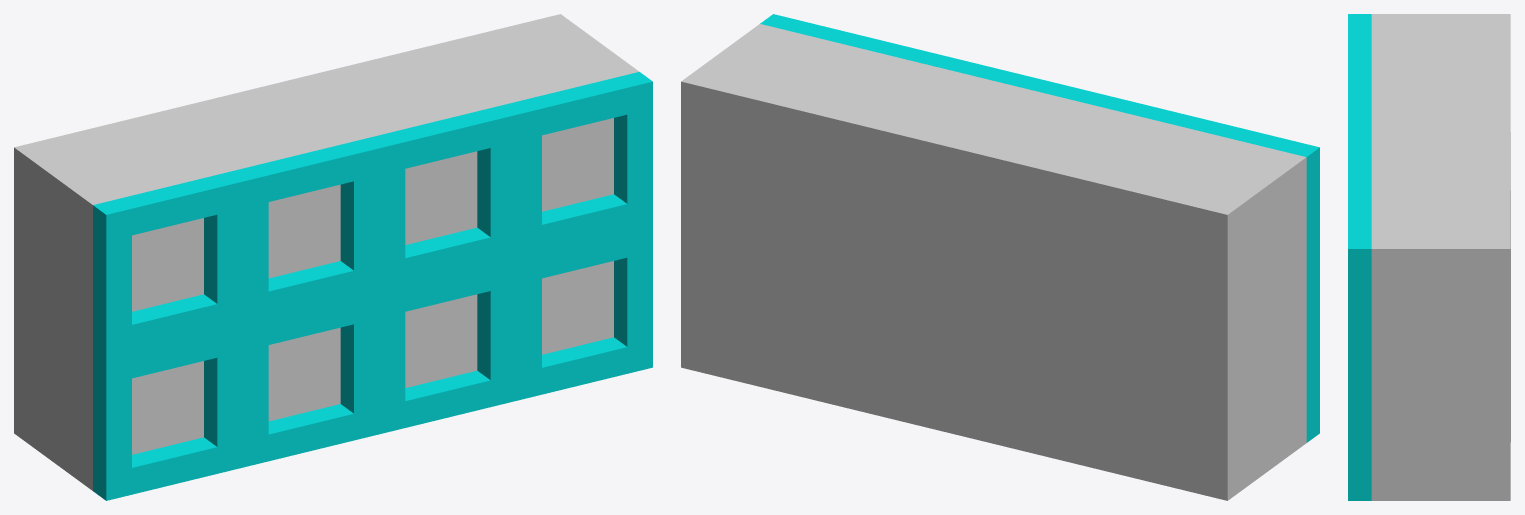
3 views of the same model, side by side, from view 1: azimuth 30°, elevation 25°; view 2: azimuth 150°, elevation 25°; view 3: azimuth 270°, elevation 25° (orthographic). The views are drawn at different scales.
Parts seen in each view (by area): view 1: Element_0@Origin_e, Future.007, Element_0@Origin_a, Element_0@Origin_g, Element_0@Origin_f, Future.005, Element_0@Origin_h, Future.006, Future, Future.004, Future.002, Future.001 (+4 smaller); view 2: Element_0@Origin_e, Element_0@Origin_a, Element_0@Origin_g, Element_0@Origin_f, Element_0@Origin_h, Element_0@Origin_c, Element_0@Origin_b, Element_0@Origin_d, Future.007, Future, Future.005, Future.004 (+1 smaller); view 3: Element_0@Origin_h, Element_0@Origin_d, Element_0@Origin_g, Element_0@Origin_f, Element_0@Origin_e, Future.004, Future.003, Future.006, Future.005, Future.007.
Part boxes in pixels (x1,y1,x2,y2): Element_0@Origin_e: (14,114,229,347); Future.007: (93,172,242,357); Element_0@Origin_a: (14,290,203,490); Element_0@Origin_g: (288,47,502,244); Element_0@Origin_f: (151,80,365,278); Future.005: (366,105,516,290); Element_0@Origin_h: (424,14,639,211); Future.006: (230,138,379,324); Future: (93,324,242,500); Future.004: (503,72,652,257); Future.002: (379,258,516,433); Future.001: (243,291,379,467); Element_0@Origin_e: (1091,124,1306,357); Element_0@Origin_a: (1091,300,1306,500); Element_0@Origin_g: (817,57,1032,290); Element_0@Origin_f: (954,90,1169,324); Element_0@Origin_h: (681,24,896,257); Element_0@Origin_c: (817,258,954,433); Element_0@Origin_b: (954,291,1090,467); Element_0@Origin_d: (681,224,817,400); Future.007: (1170,114,1319,299); Future: (1306,290,1319,442); Future.005: (897,47,1045,90); Future.004: (760,14,909,56); Element_0@Origin_h: (1371,190,1510,374); Element_0@Origin_d: (1371,375,1510,500); Element_0@Origin_g: (1371,131,1510,315); Element_0@Origin_f: (1371,72,1510,131); Element_0@Origin_e: (1371,14,1510,72); Future.004: (1348,190,1371,374); Future.003: (1348,375,1371,500); Future.006: (1348,72,1371,131); Future.005: (1348,131,1371,190); Future.007: (1348,14,1371,72).
Size of what is drawn, in the model's own units: 800 by 400 by 234.
